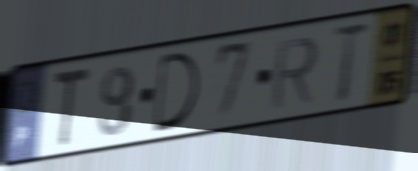7: (212, 37, 257, 125)
9: (96, 63, 137, 139)
D: (151, 48, 203, 137)
R: (268, 33, 321, 113)
T: (329, 18, 372, 107), (50, 63, 92, 151)
